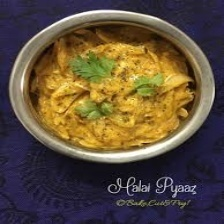sabzi: (20, 19, 198, 156)
